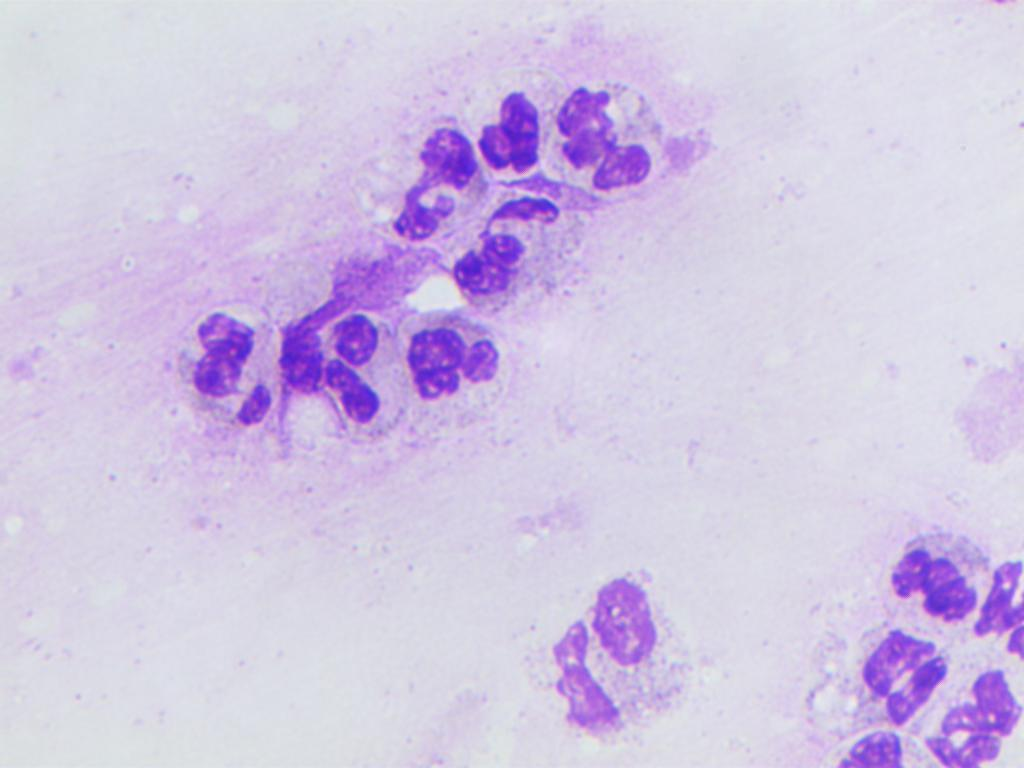epithelial: (519, 619, 639, 746), (587, 562, 696, 666)
neutrophil: (541, 64, 683, 195), (358, 115, 483, 255), (171, 296, 282, 438), (450, 58, 557, 189), (290, 309, 403, 433), (885, 520, 998, 636), (405, 309, 517, 419), (845, 617, 953, 725), (919, 657, 1024, 768), (455, 224, 552, 304), (806, 715, 929, 768), (974, 542, 1024, 662)
